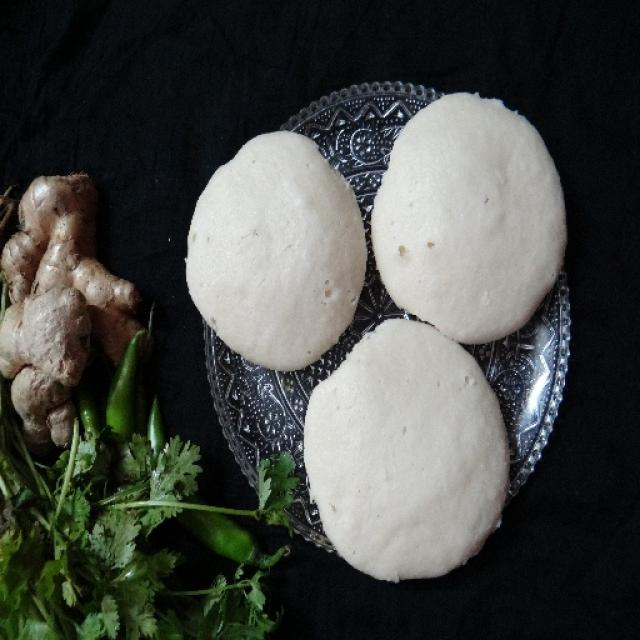IDLI: (186, 82, 569, 581)
